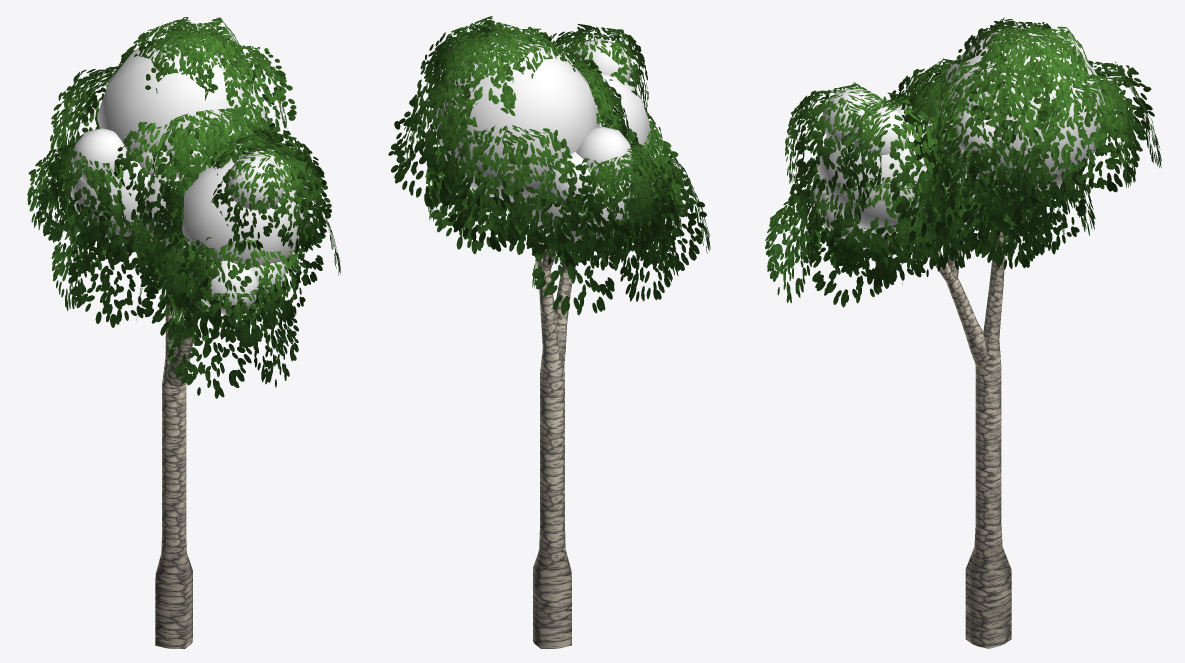
The model's file is birch.gltf.
3 renders of one model, left to right at view 1: azimuth 30°, elevation 25°; view 2: azimuth 150°, elevation 25°; view 3: azimuth 270°, elevation 25°, orthographic. The views are drawn at different scales.
Parts seen in each view (by area): view 1: birch_leaves_LOD0, birch_shadow_LOD0, birch_trunk_LOD0; view 2: birch_leaves_LOD0, birch_shadow_LOD0, birch_trunk_LOD0; view 3: birch_leaves_LOD0, birch_trunk_LOD0, birch_shadow_LOD0.
Part boxes in pixels (x1=…): birch_leaves_LOD0: x1=27, y1=17, x2=340, y2=398; birch_shadow_LOD0: x1=71, y1=37, x2=304, y2=315; birch_trunk_LOD0: x1=155, y1=260, x2=201, y2=648; birch_leaves_LOD0: x1=388, y1=16, x2=710, y2=315; birch_shadow_LOD0: x1=432, y1=38, x2=664, y2=243; birch_trunk_LOD0: x1=529, y1=221, x2=572, y2=648; birch_leaves_LOD0: x1=765, y1=17, x2=1161, y2=307; birch_trunk_LOD0: x1=929, y1=219, x2=1011, y2=648; birch_shadow_LOD0: x1=810, y1=26, x2=1105, y2=249.
Size of what is drawn, in the model's own units: 5.23 by 10.84 by 6.55.
3 materials, 2 textured.
